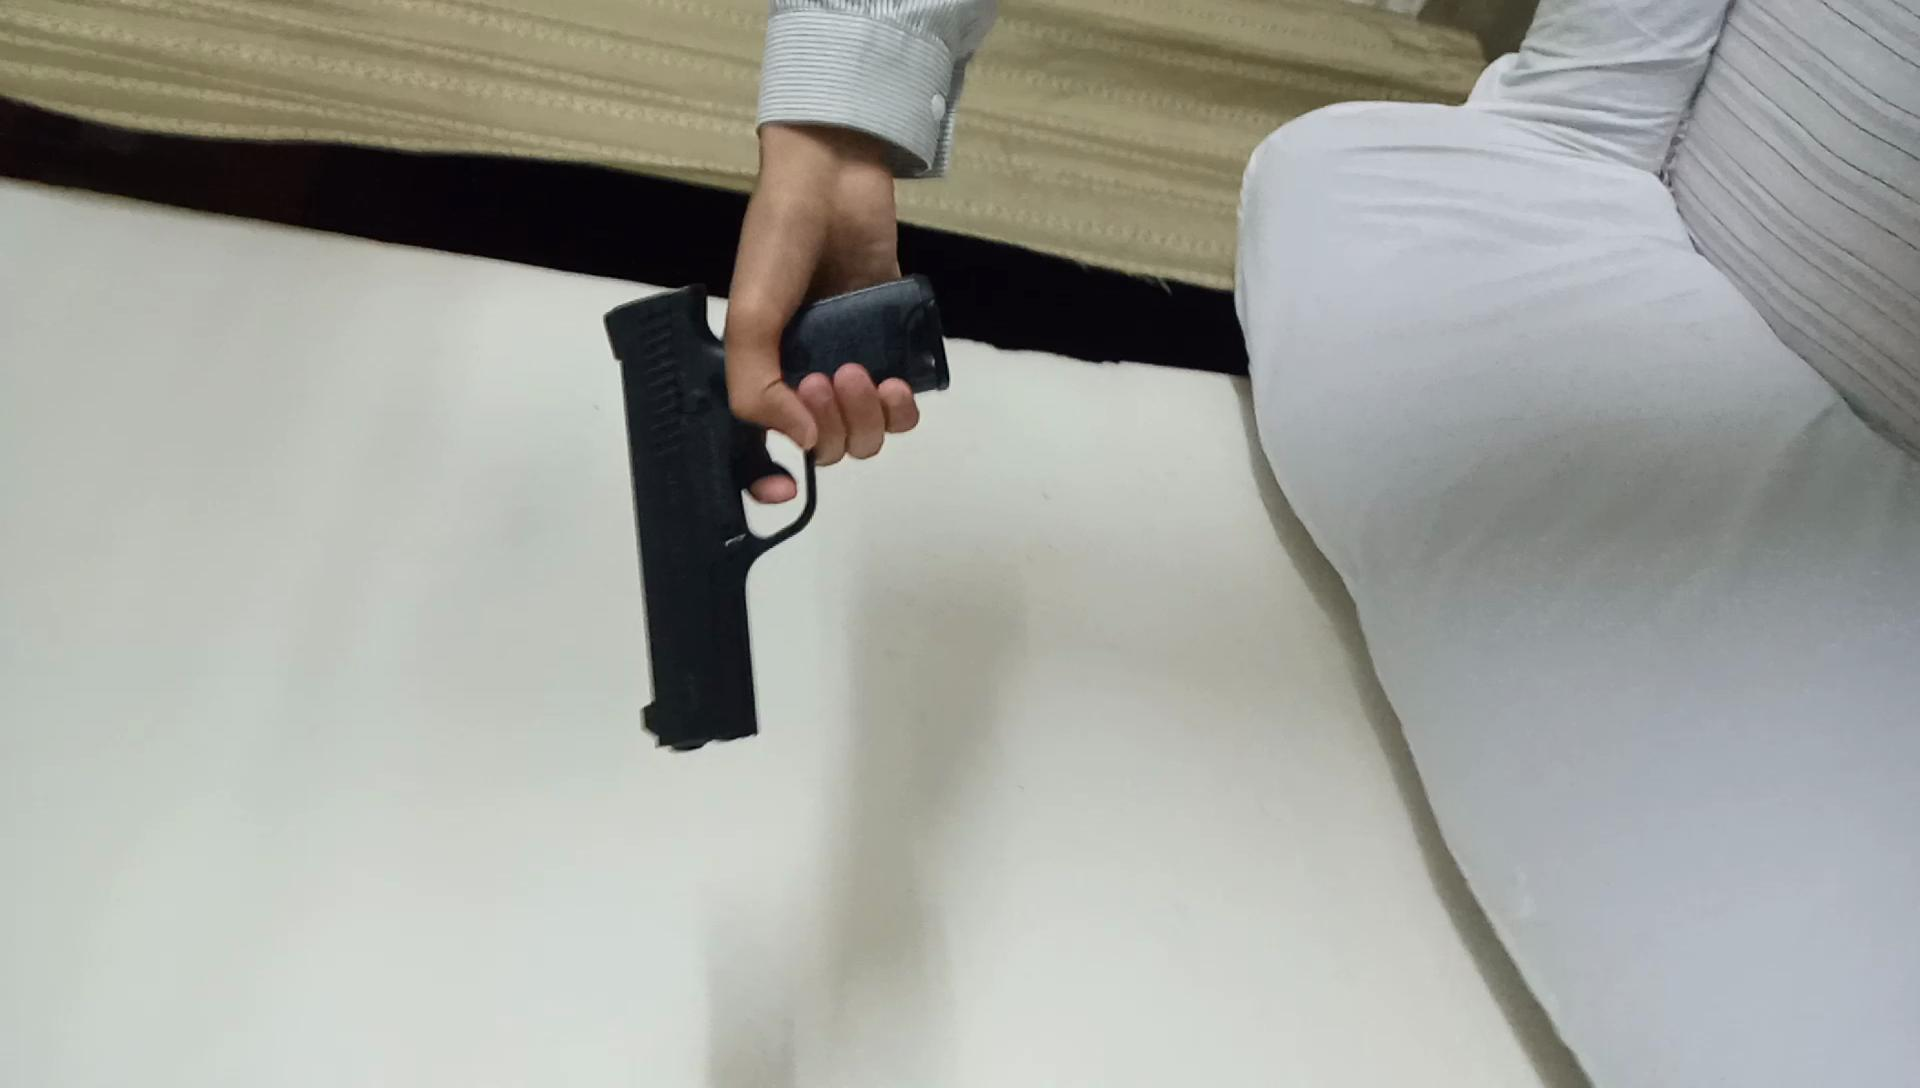weapon: (595, 258, 967, 764)
